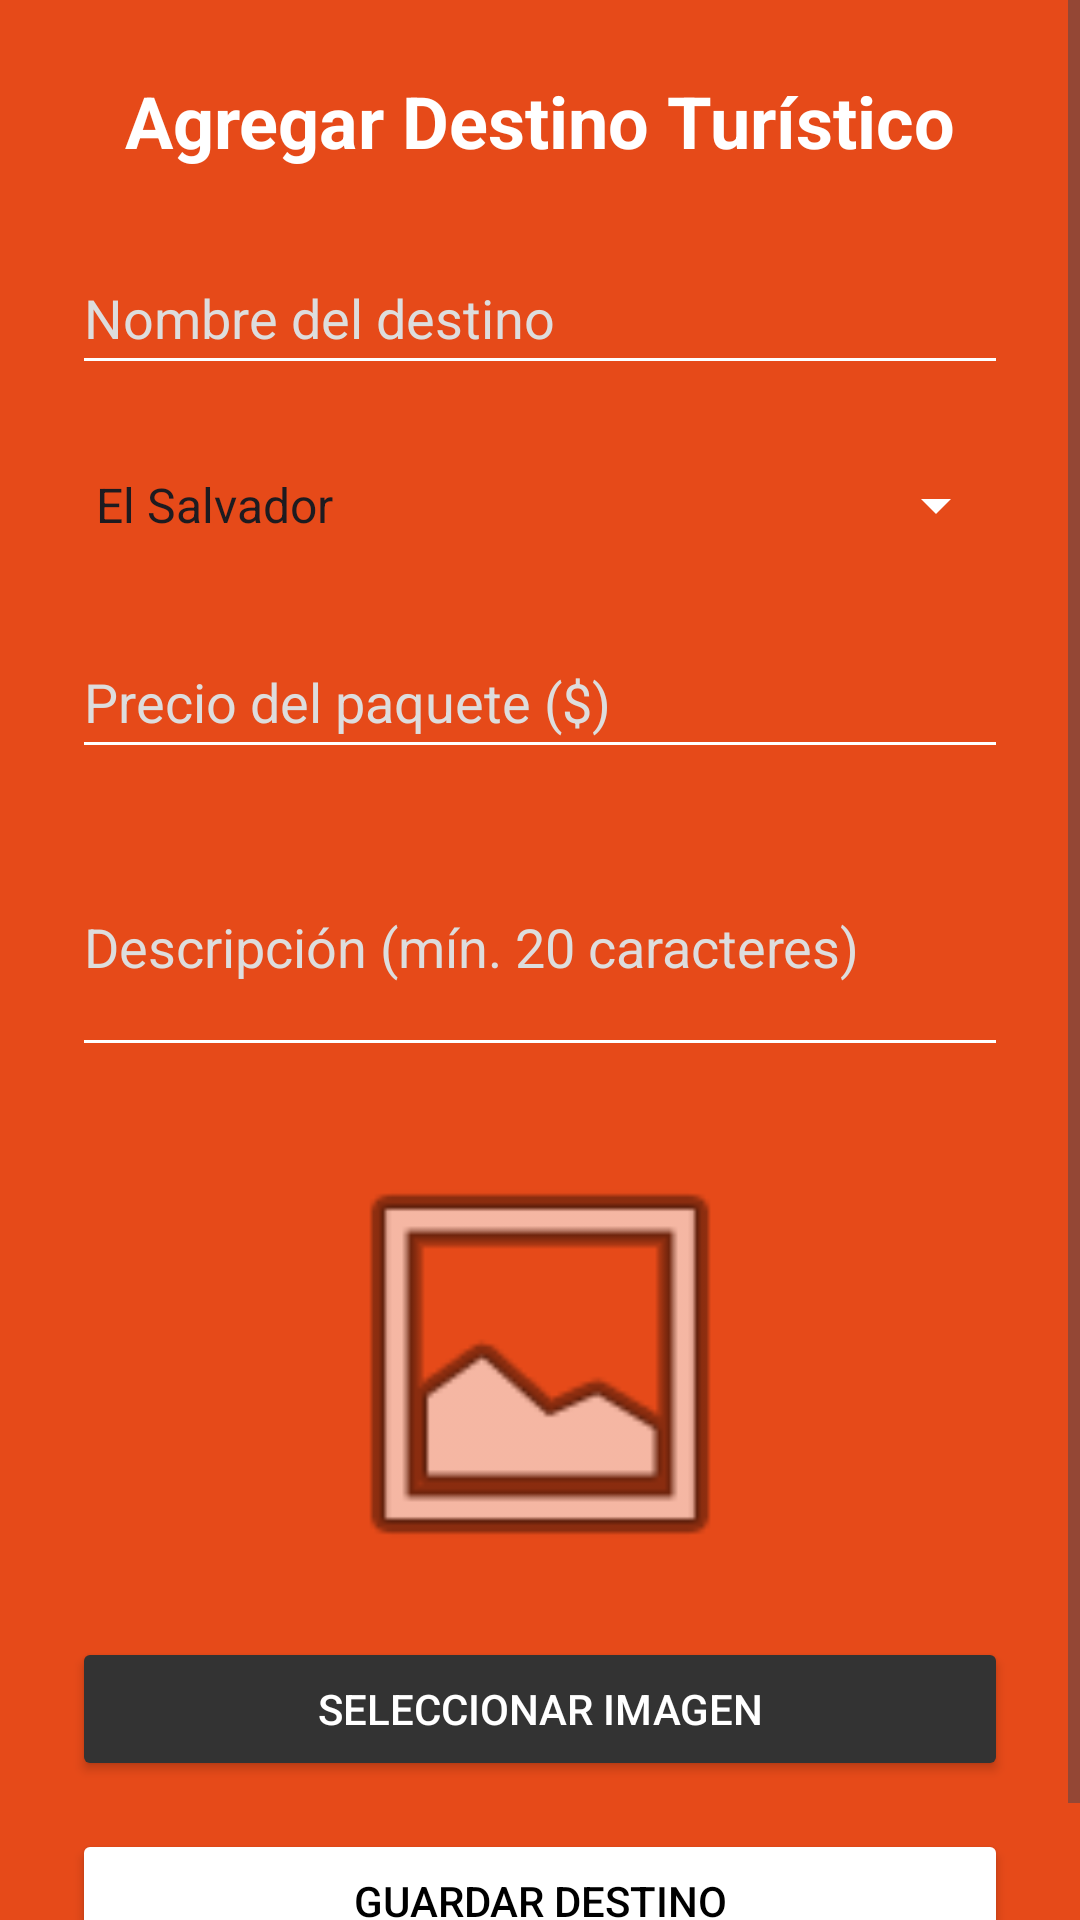

Where icons sit on this 1080px×1920px app screen, as (x1, y1, x2, y2):
gallery: (370, 1194, 710, 1534)
